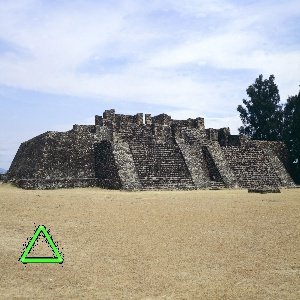triangle: (17, 222, 66, 269)
